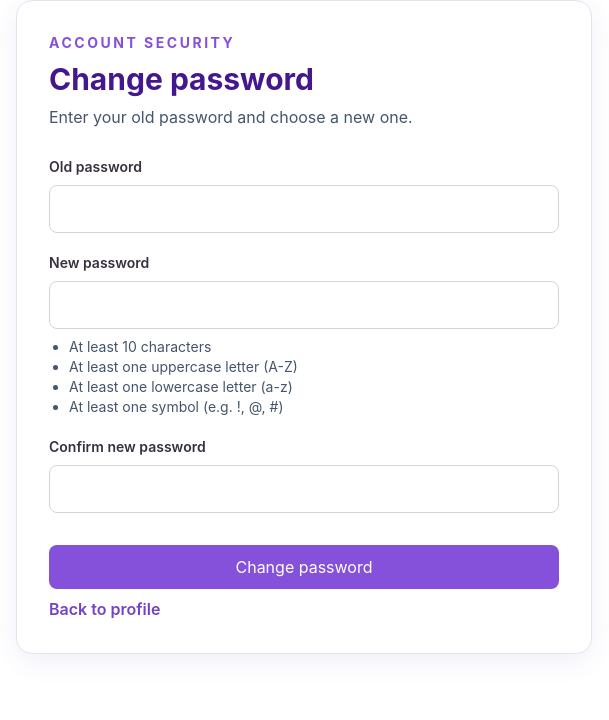
Test: shows API error 401
The width and height of the screenshot is (609, 720).
Type "old" into the password field labelled "Old password".
click(304, 209); type("old")  # box [49,185,559,233]
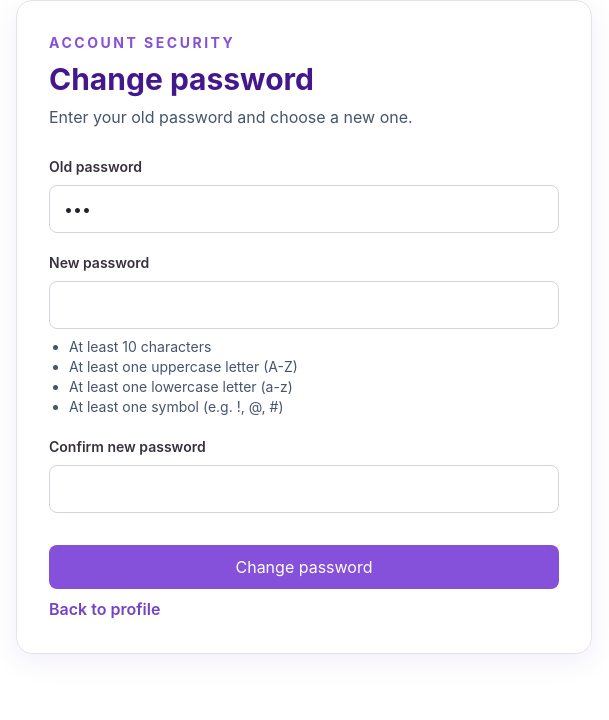
Type "NewPassword!" into the password field labelled "New password".
click(304, 305); type("NewPassword!")  # box [49,281,559,329]
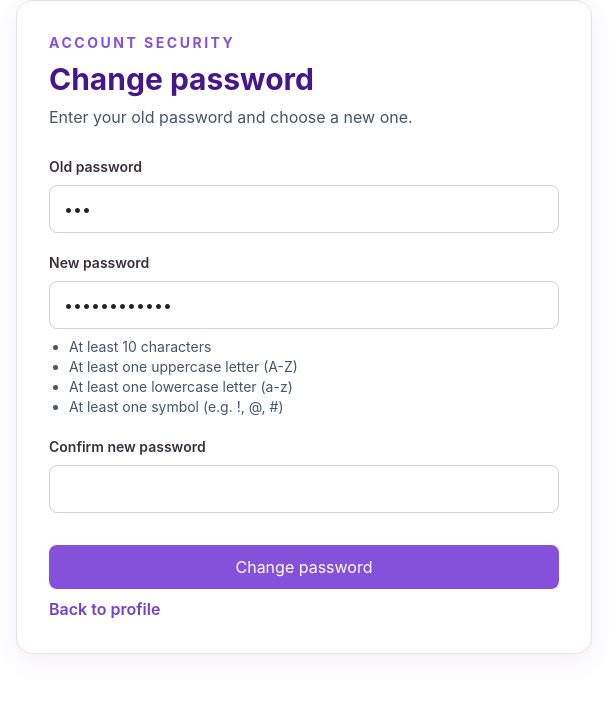
Type "NewPassword!" into the password field labelled "Confirm new password".
click(304, 489); type("NewPassword!")  # box [49,465,559,513]
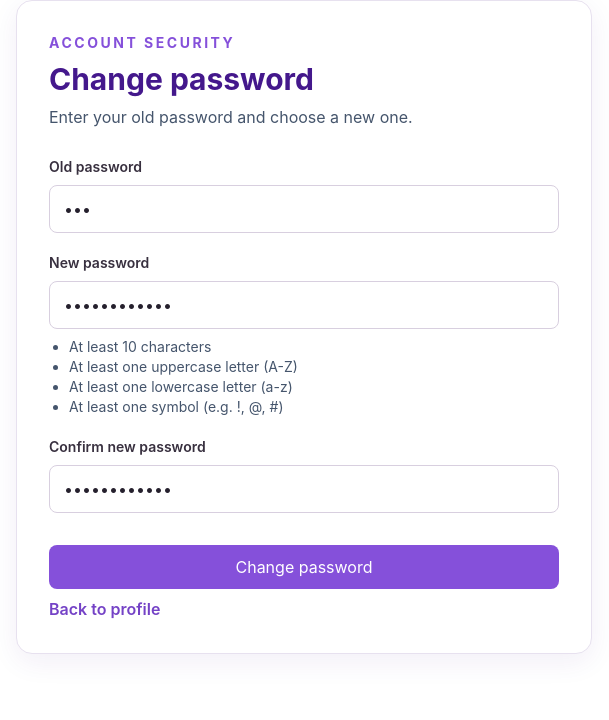
Click the button "Change password".
click(304, 567)  # box [49,545,559,589]
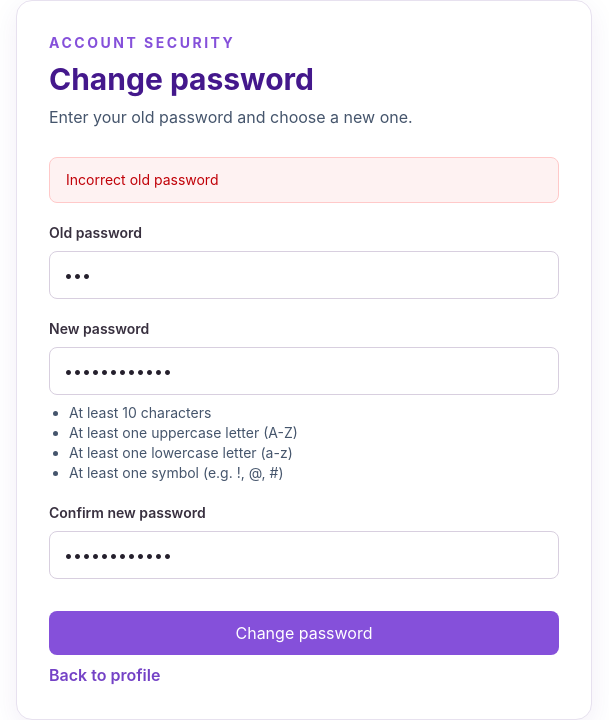
Now the message reads "Incorrect old password", box [66,171,218,188]
